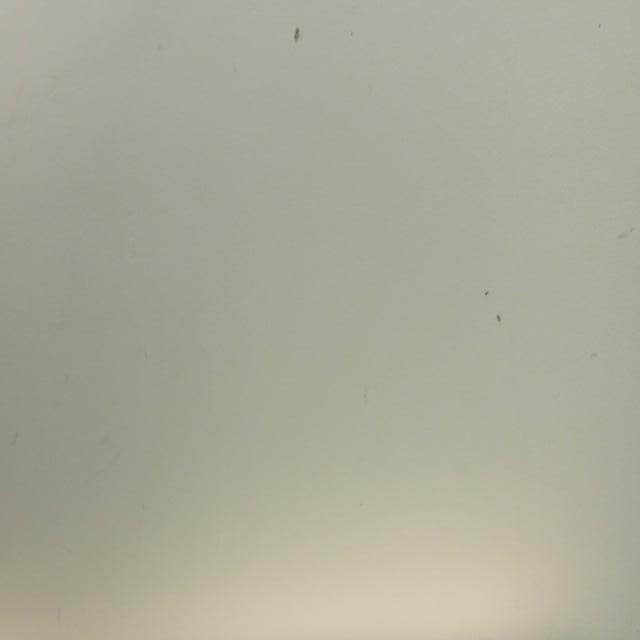fluorescent tube: (0, 619, 637, 640)
